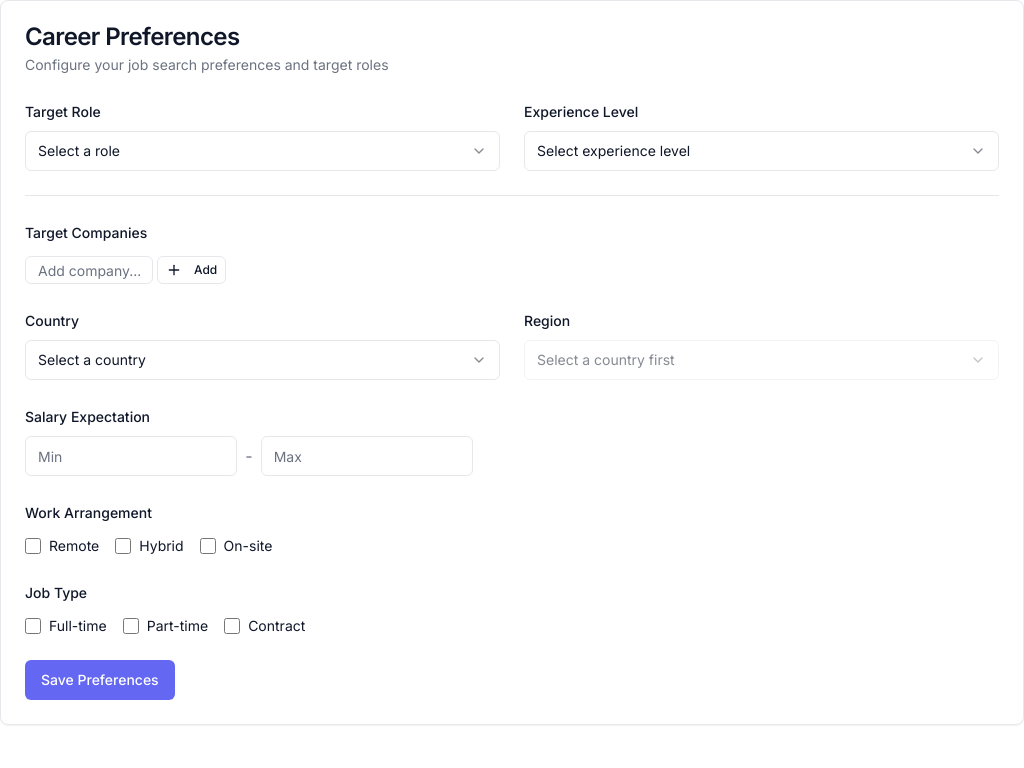
Test: CareerPreferencesTab - company management › should add a company tag when the Add button is clicked
Type "Google" into the field with placeholder "Add company...".
click(89, 270); type("Google")  # box [25, 256, 153, 284]
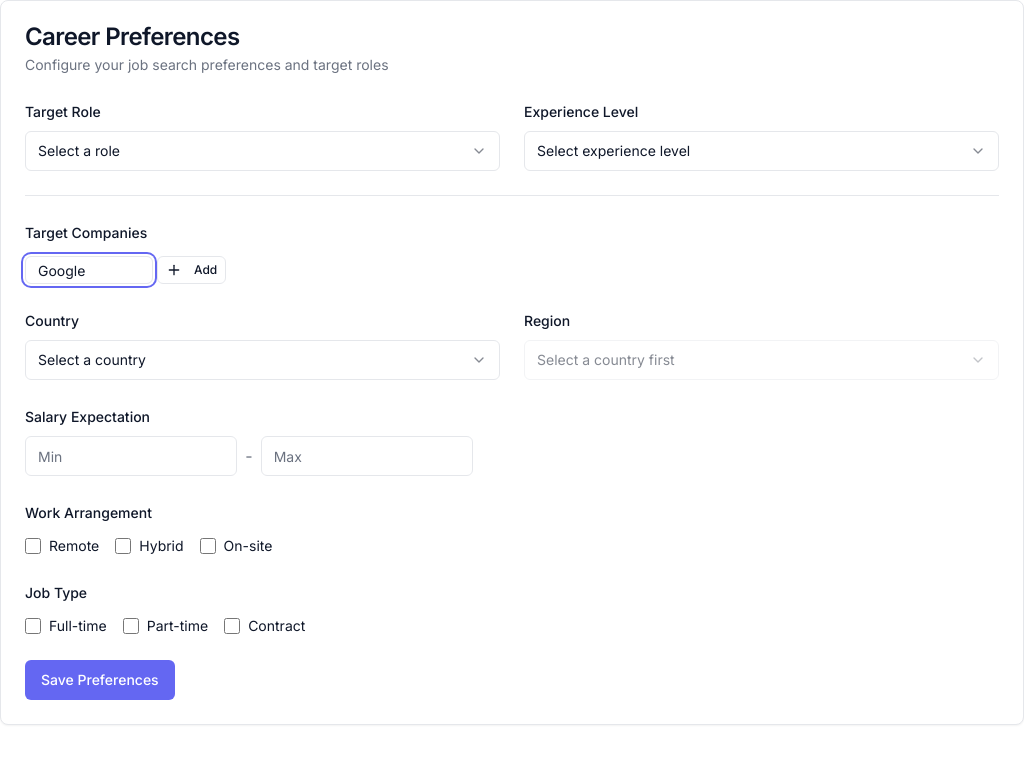
Click the button "Add".
click(192, 270)  # box [157, 256, 226, 284]
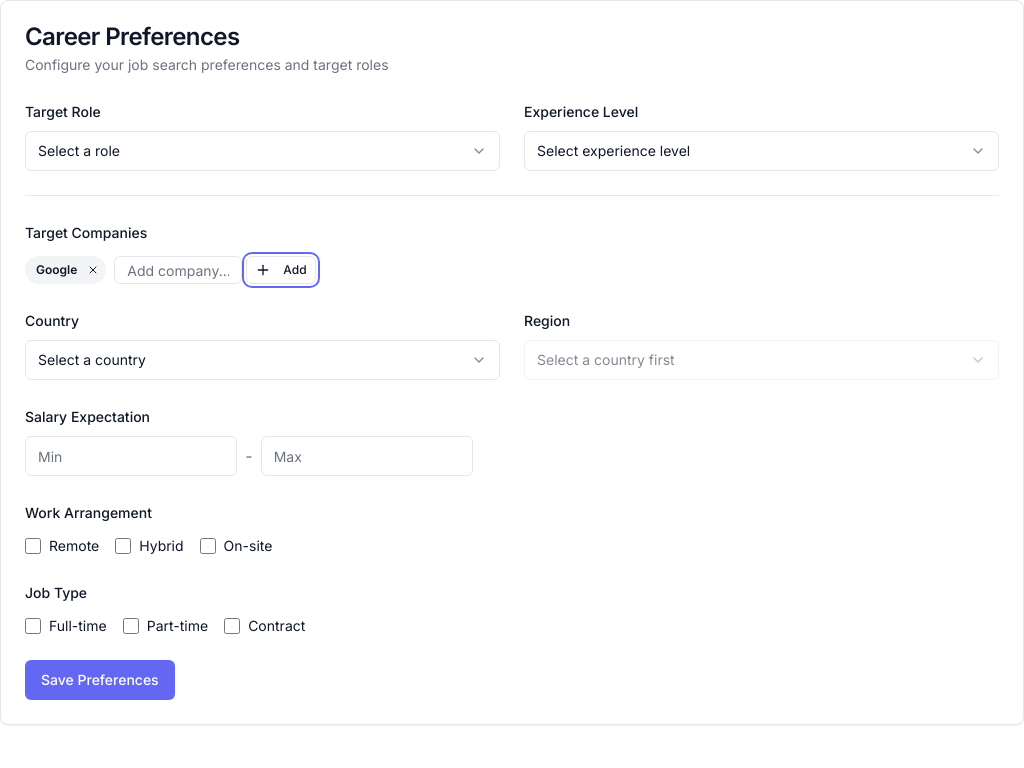
Expected: the text "Google" is shown, [25, 256, 106, 284]
